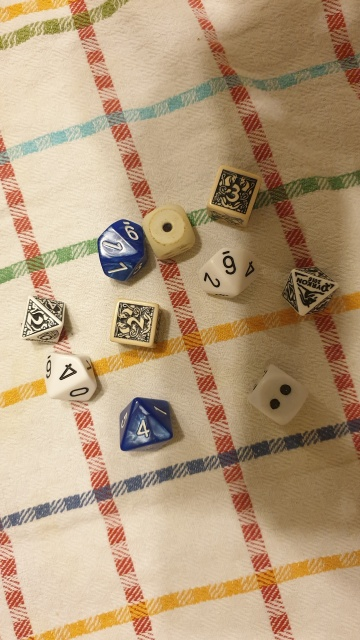d10-1: (90, 212, 145, 287)
d10-4: (112, 393, 175, 458), (38, 348, 100, 406)
d10-6: (198, 244, 262, 304)
d6-1: (137, 203, 197, 260)
d6-2: (241, 358, 310, 434)
d6p-2: (108, 297, 161, 352)
d6p-3: (202, 163, 259, 227)
d8p-1: (278, 261, 341, 321)
d8p-2: (15, 292, 69, 344)
